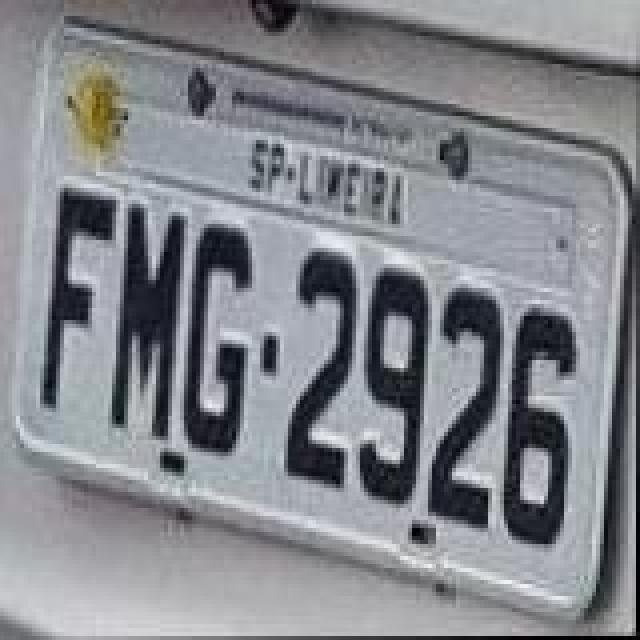2: (432, 286, 508, 534), (288, 248, 364, 492)
6: (504, 308, 580, 548)
9: (362, 266, 434, 506)
F: (38, 178, 118, 414)
G: (186, 218, 258, 458)
M: (110, 200, 190, 440)
